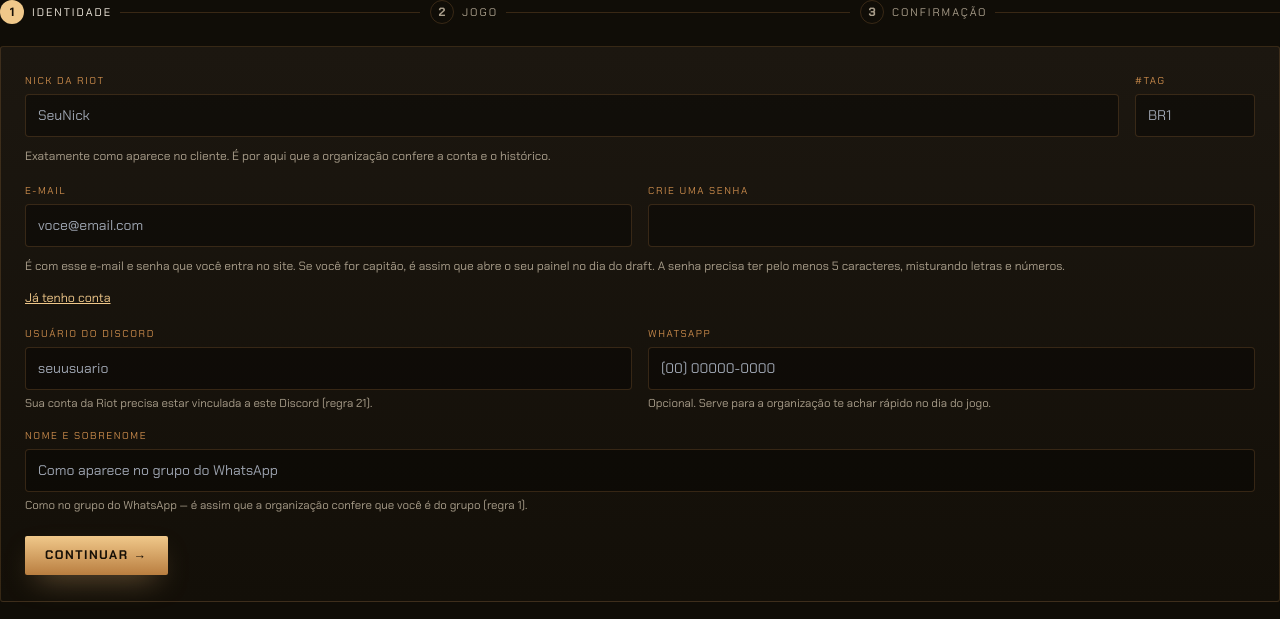
it: acessibilidade (INS-14) › no modo Entrar, o botão '←' tem nome que se lê
This screenshot has width=1280, height=619.
Click the button "Já tenho conta".
click(68, 298)  # box [25,289,110,308]
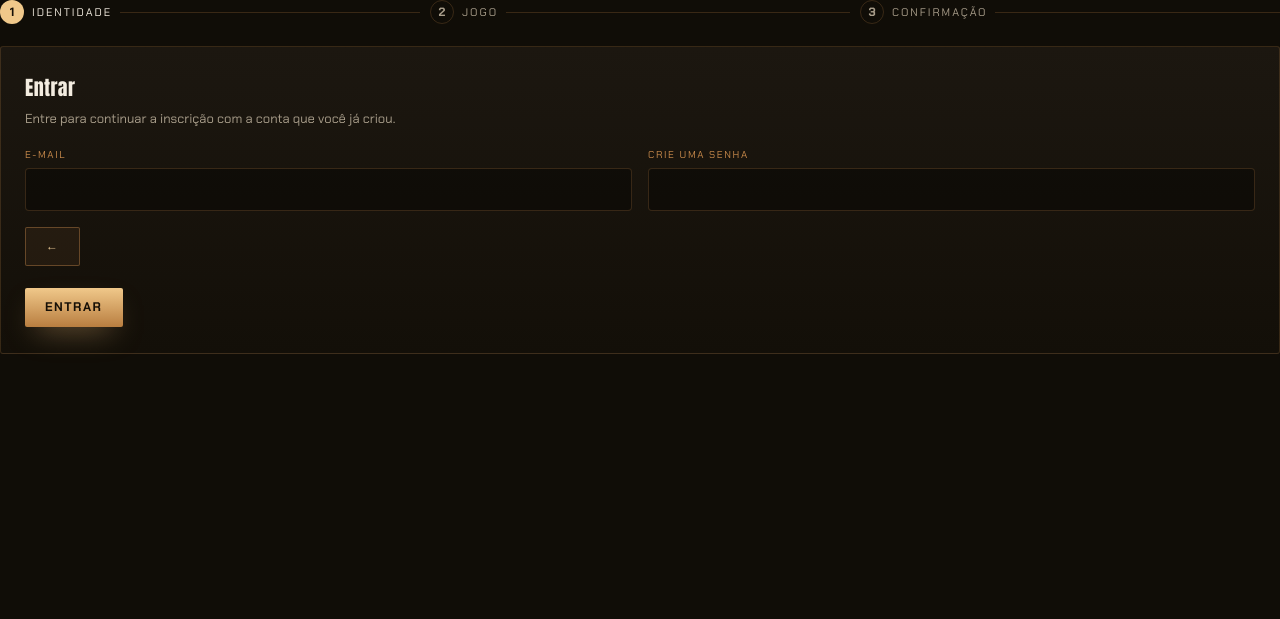
Expected: the button named "Voltar para criar uma conta" reads "←", [25,226,80,266]
